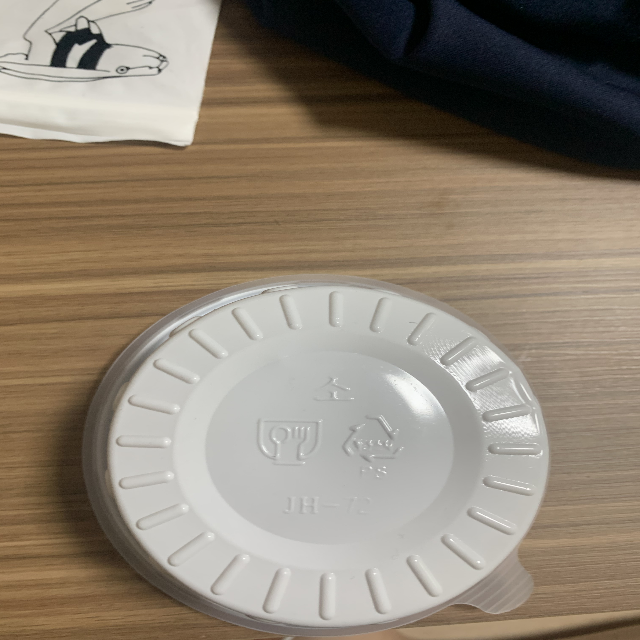ps: (342, 406, 406, 482)
